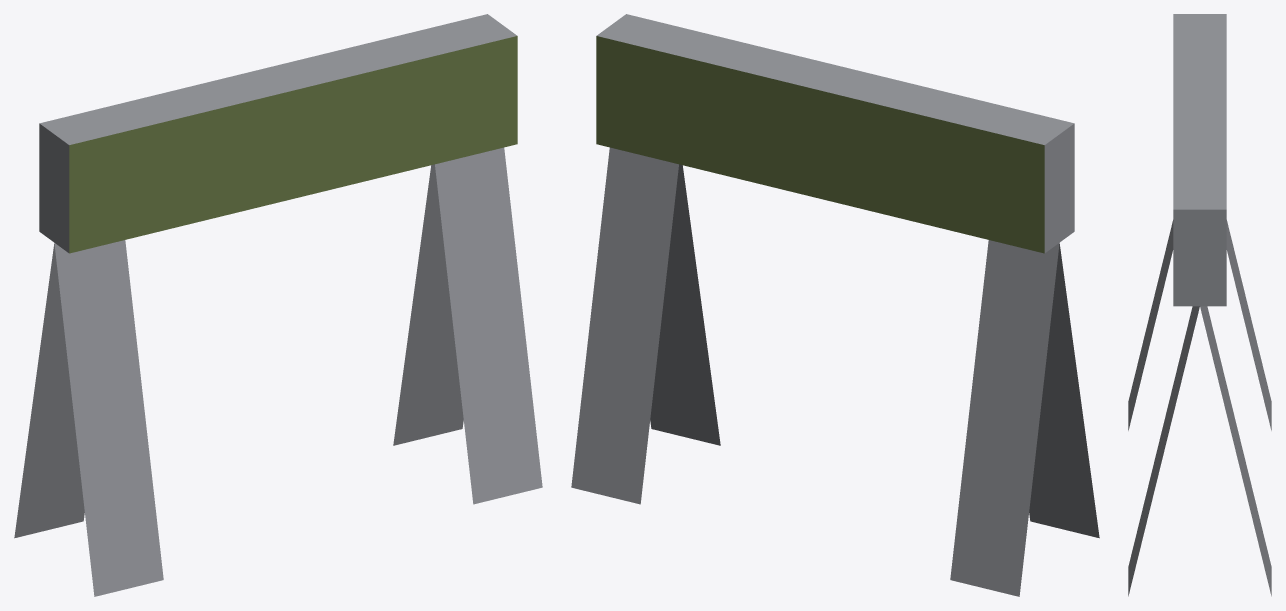
Rendered from barrier.obj.
The picture shows the model from 3 angles, left to right: view 1: azimuth 30°, elevation 25°; view 2: azimuth 150°, elevation 25°; view 3: azimuth 270°, elevation 25°; orthographic projection. The views are drawn at different scales.
Bounding box in the file's own units: 0.433 × 0.4 × 0.134.
